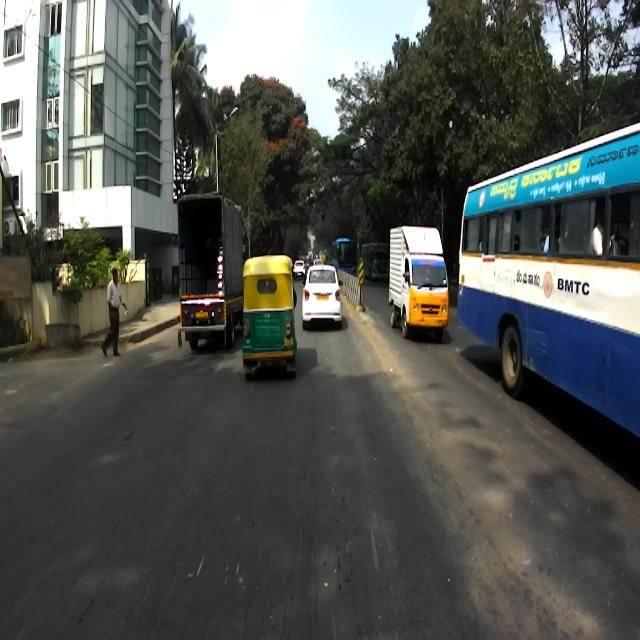auto ahead at: (244, 260, 297, 370)
bus ahead at: (453, 114, 638, 445)
car ahead at: (303, 260, 345, 325)
person ahead at: (102, 261, 128, 357)
truck ahead at: (176, 189, 241, 351), (384, 223, 452, 338)
